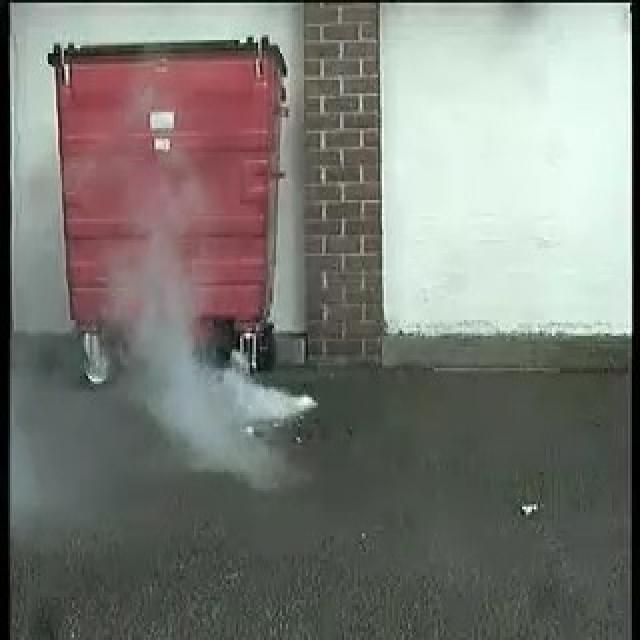smoke: (112, 245, 318, 454)
